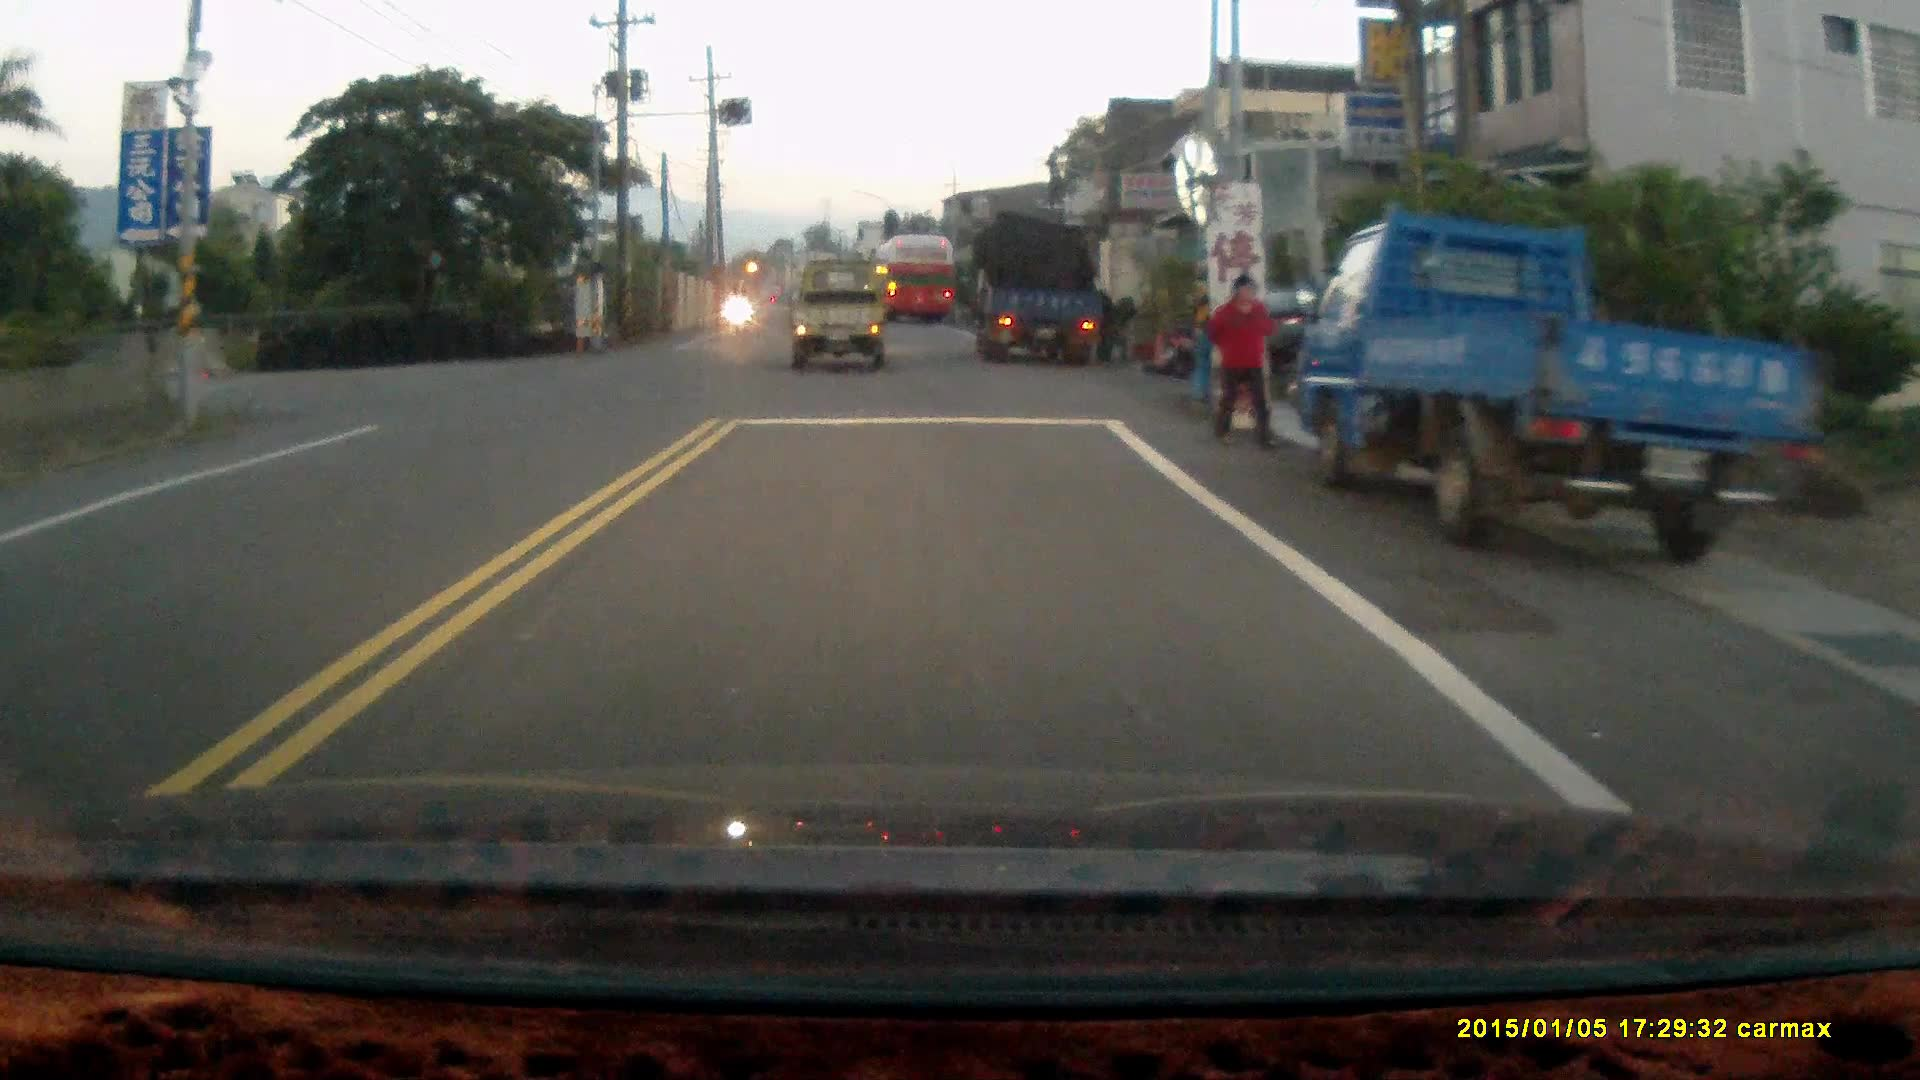pedestrian: (1202, 271, 1281, 456)
rider: (727, 278, 755, 337)
vehicle: (1299, 211, 1831, 565), (975, 219, 1123, 379), (794, 259, 890, 376), (873, 231, 961, 325)
